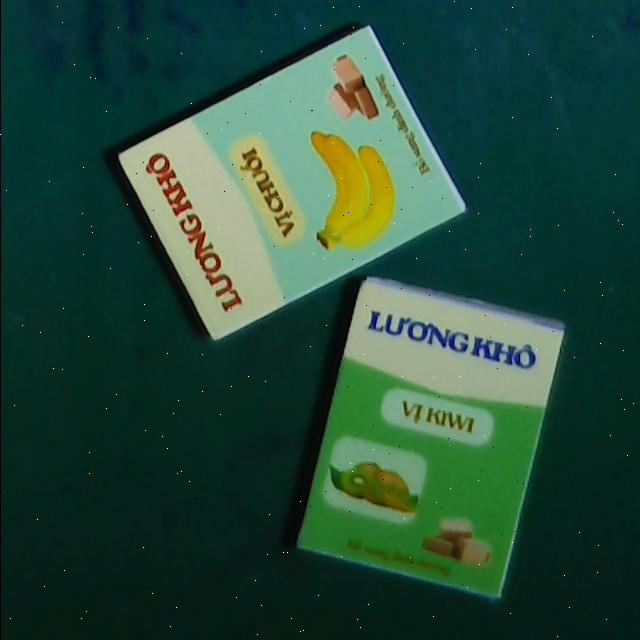chuoi: (112, 20, 467, 343)
kiwi: (293, 271, 568, 598)
